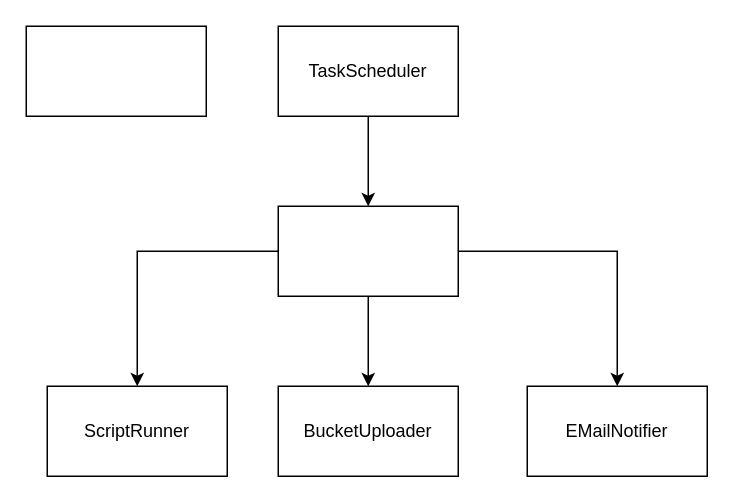
Some shapes in this 734 by 503 pixel diagram are drawn without their labels. The shapes that lost their labels are listed below. From the top down, each one's centre as x and y in pixels, then its label:
At [115,70]: "Logger".
At [367,250]: "TaskRunner".
